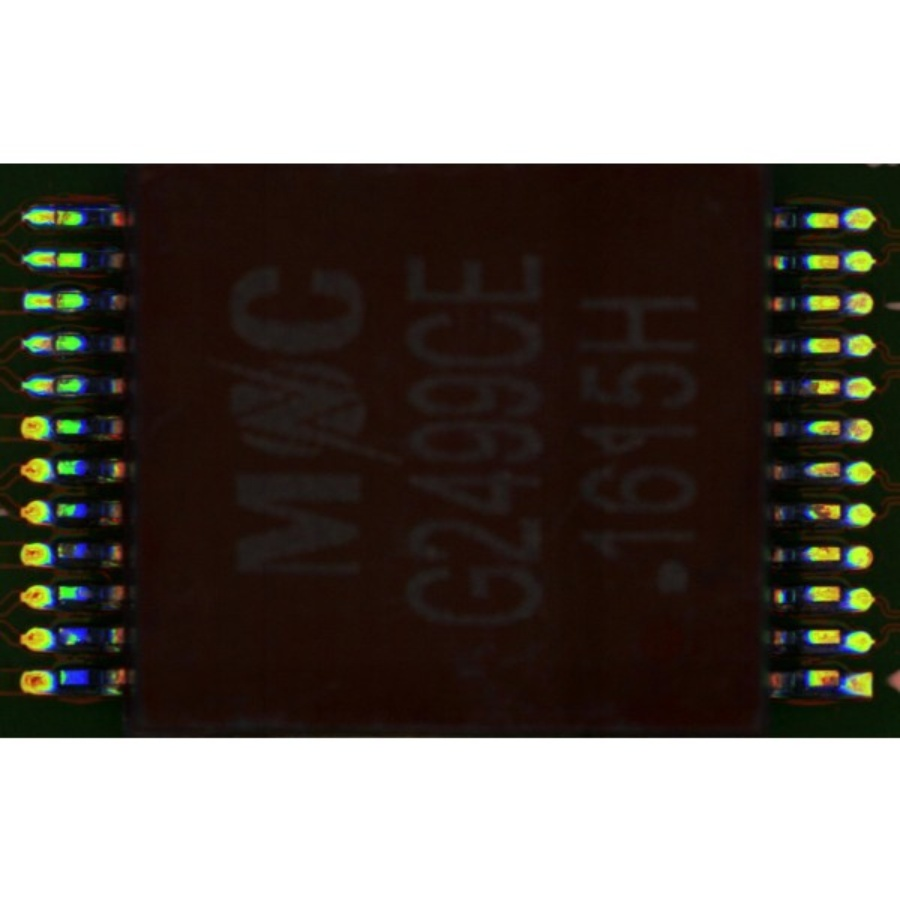Bad_podu: (37, 253, 70, 265), (34, 295, 68, 305), (40, 338, 68, 348), (39, 380, 67, 390), (39, 212, 69, 221)
